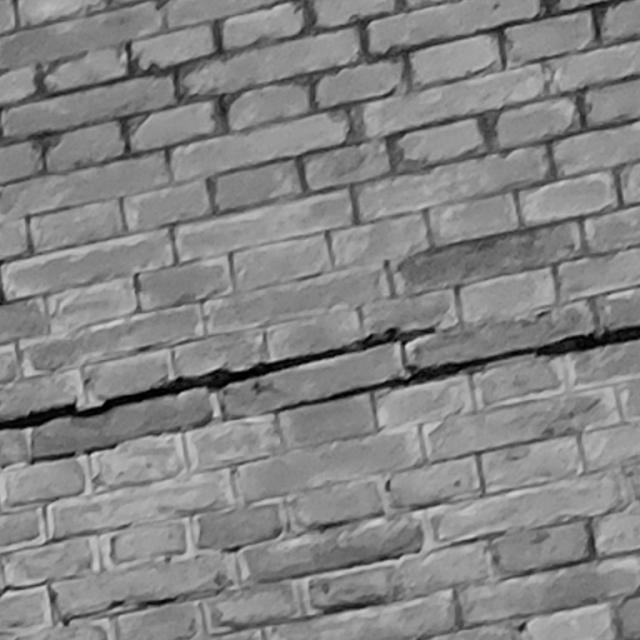crack: (1, 326, 437, 431), (273, 325, 639, 413), (30, 441, 118, 463)
